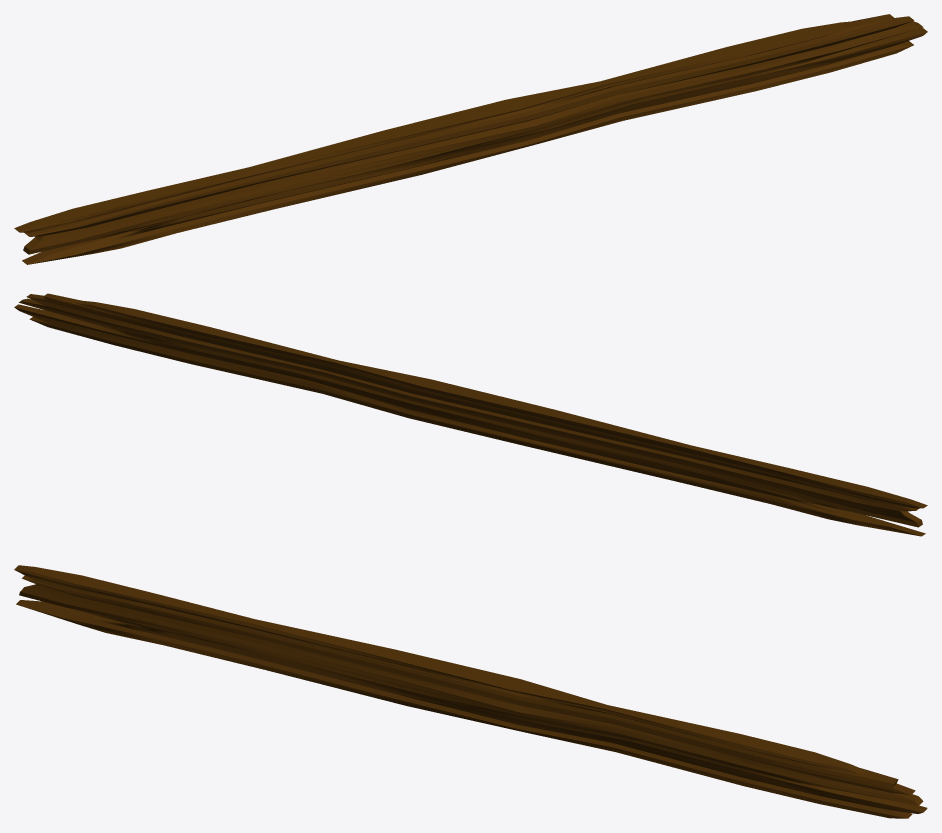
Rendered from SRDownWood.fbx.
3 renders of one model, top to bottom at view 1: azimuth 30°, elevation 25°; view 2: azimuth 150°, elevation 25°; view 3: azimuth 330°, elevation 25°, orthographic.
Parts seen in each view (by area): view 1: polySurface705; view 2: polySurface705; view 3: polySurface705.
Part boxes in pixels (x1=…): polySurface705: x1=14, y1=14, x2=927, y2=264; polySurface705: x1=14, y1=293, x2=927, y2=536; polySurface705: x1=14, y1=565, x2=927, y2=818.
Bounding box in the file's own units: 5 × 0.2187 × 0.1436.
